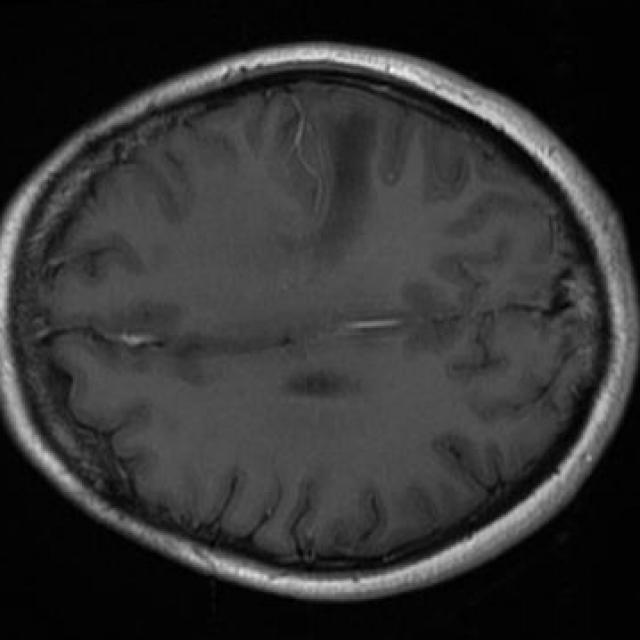glioma: (282, 114, 376, 260)
